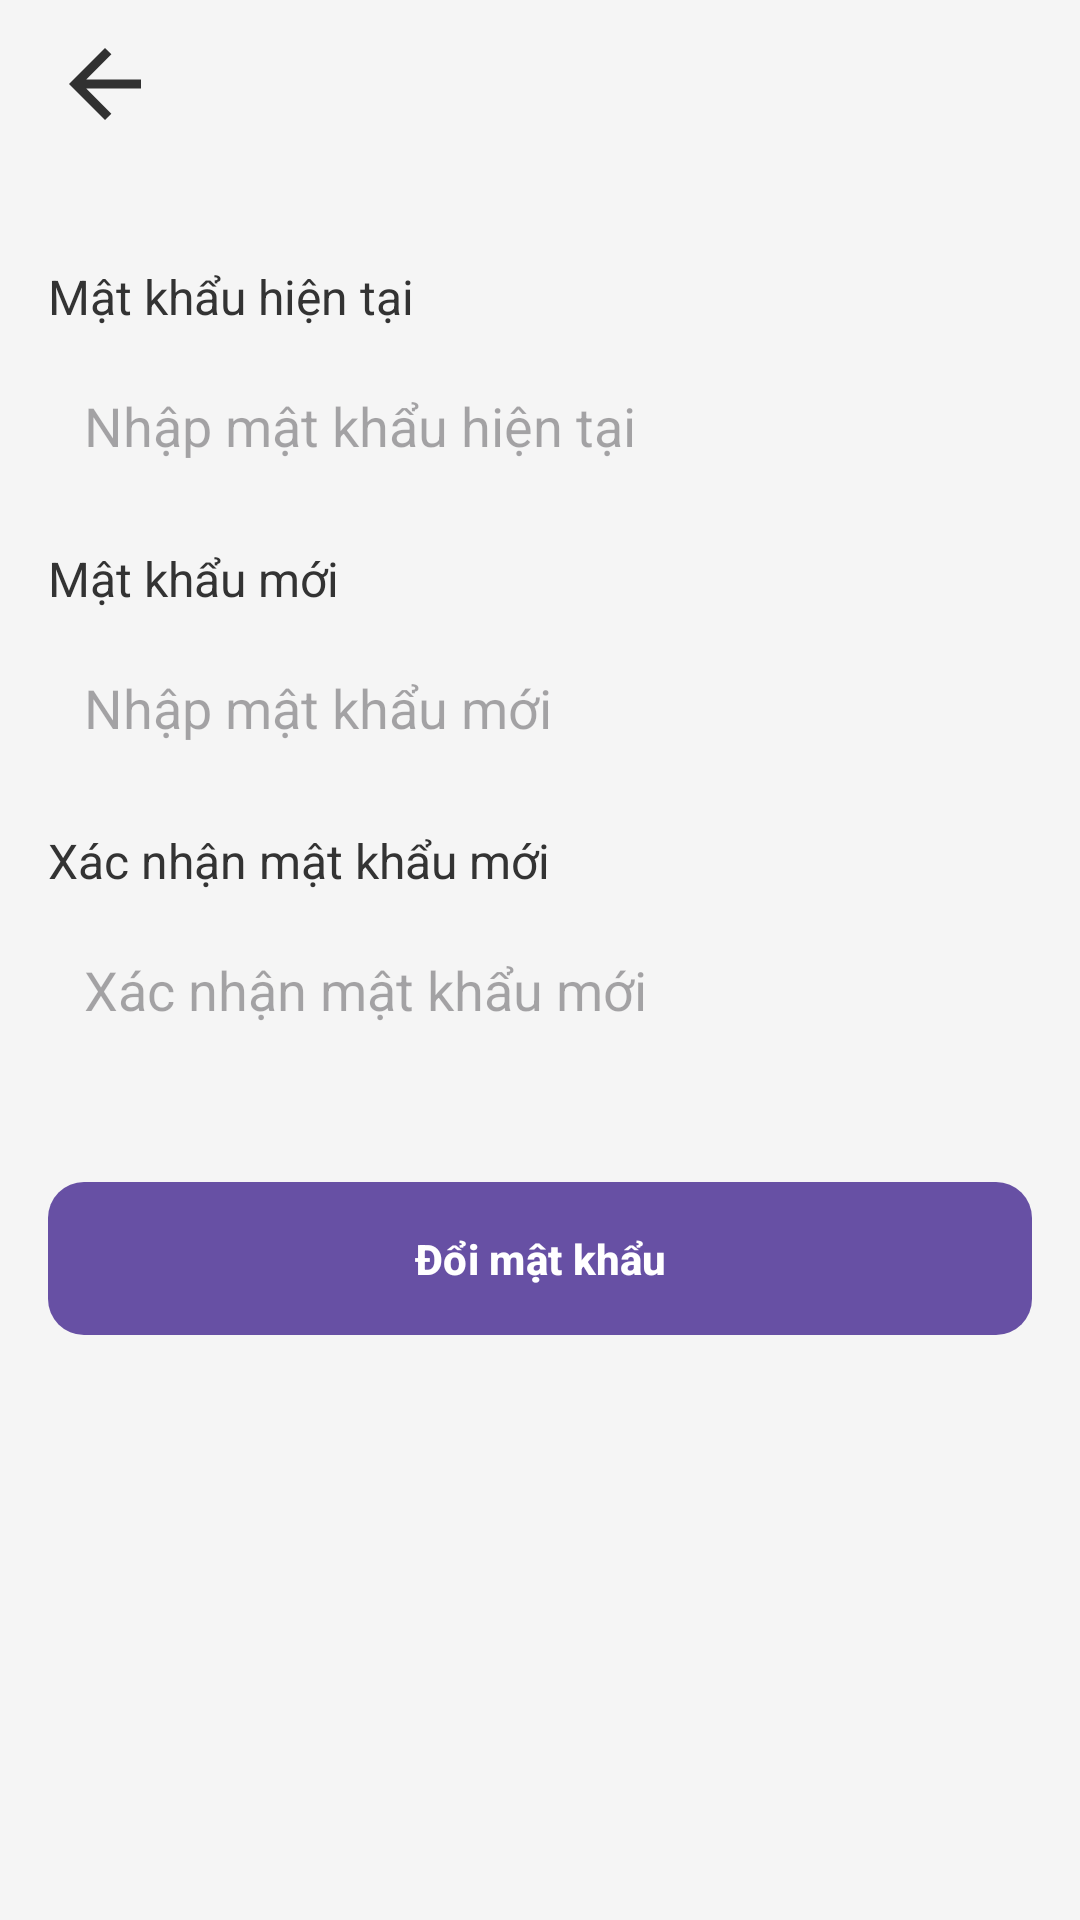

Icons on this 1080 × 1920 Android screen, each with the point to tap as point (x, y):
arrowback: point (105, 84)
